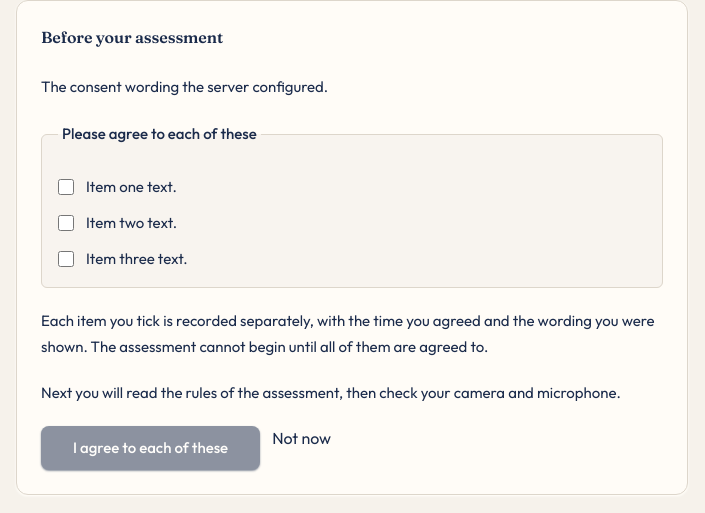
Scenario: assessment consent screen › un-ticking an item withdraws the agreement again
Click the checkbox labelled "Item one text.": (66, 187) [58, 179, 74, 195]
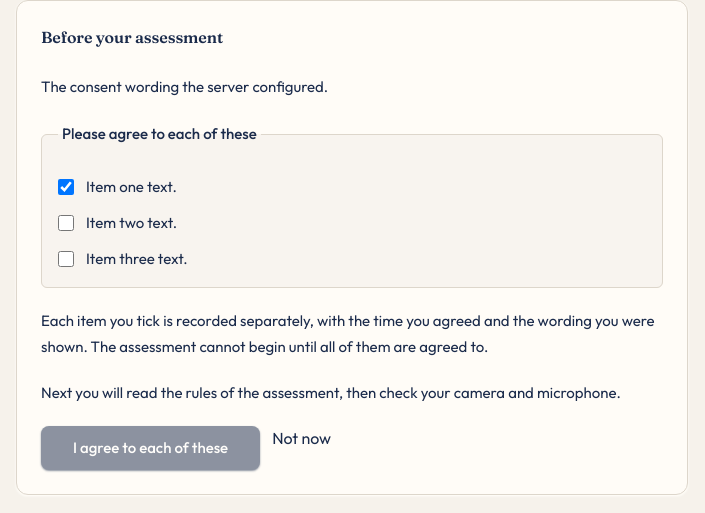
Click the checkbox labelled "Item two text.": (66, 223) [58, 215, 74, 231]
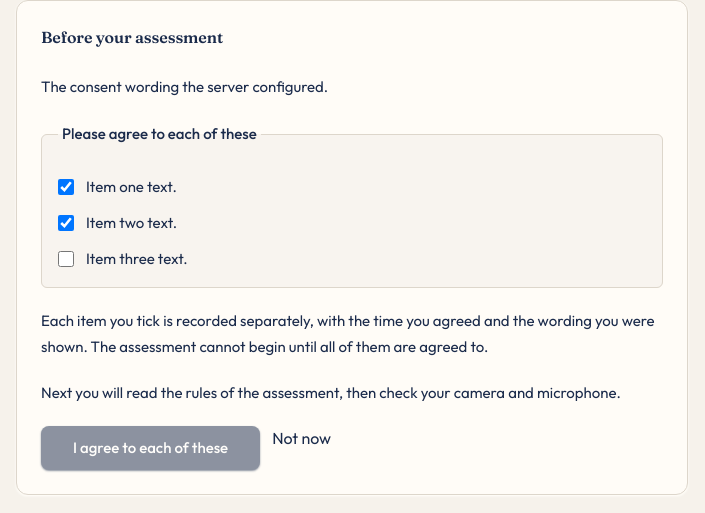
Click the checkbox labelled "Item three text.": (66, 259) [58, 251, 74, 267]
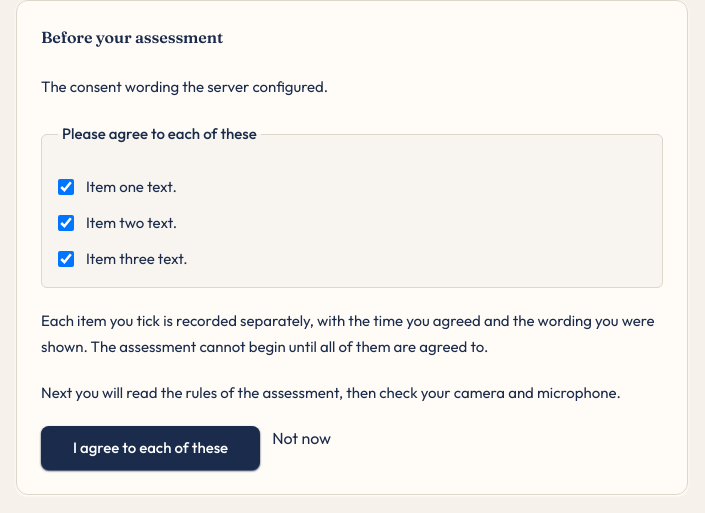
Now the button "I agree to each of these" is enabled, box [41, 426, 260, 470]
Click the checkbox labelled "Item two text.": (66, 223) [58, 215, 74, 231]
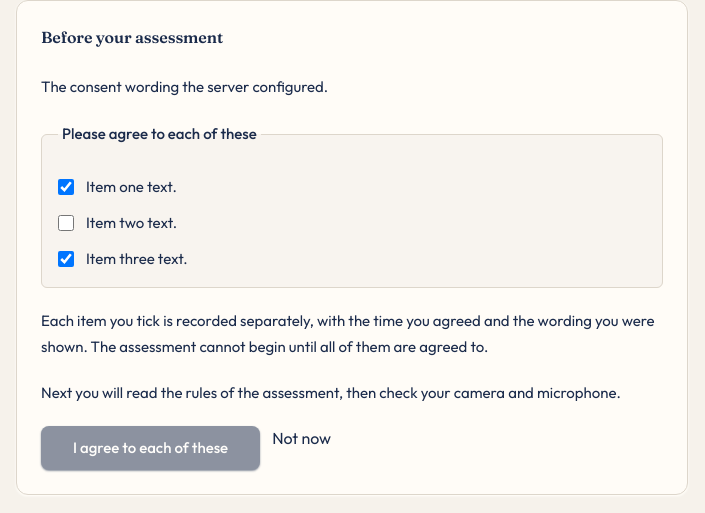
Now the button "I agree to each of these" is disabled, box [41, 426, 260, 470]
